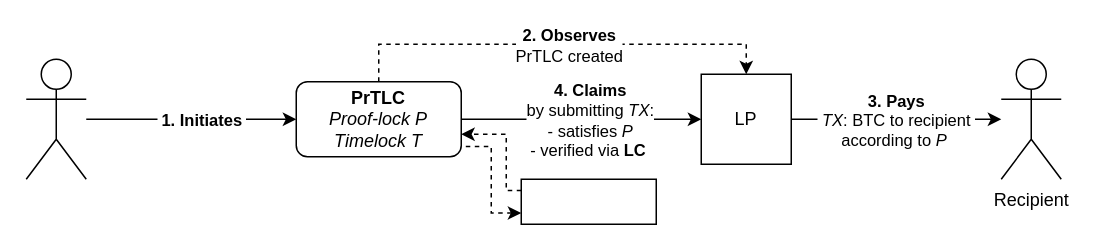
Image size: 1095x252. Some labels were removed from this diagram. Here are the shapes that lost their labels. From the top down, the centre of each, then its label:
At (x=55, y=118): "User".
At (x=588, y=201): "Bitcoin light client ( LC )".
